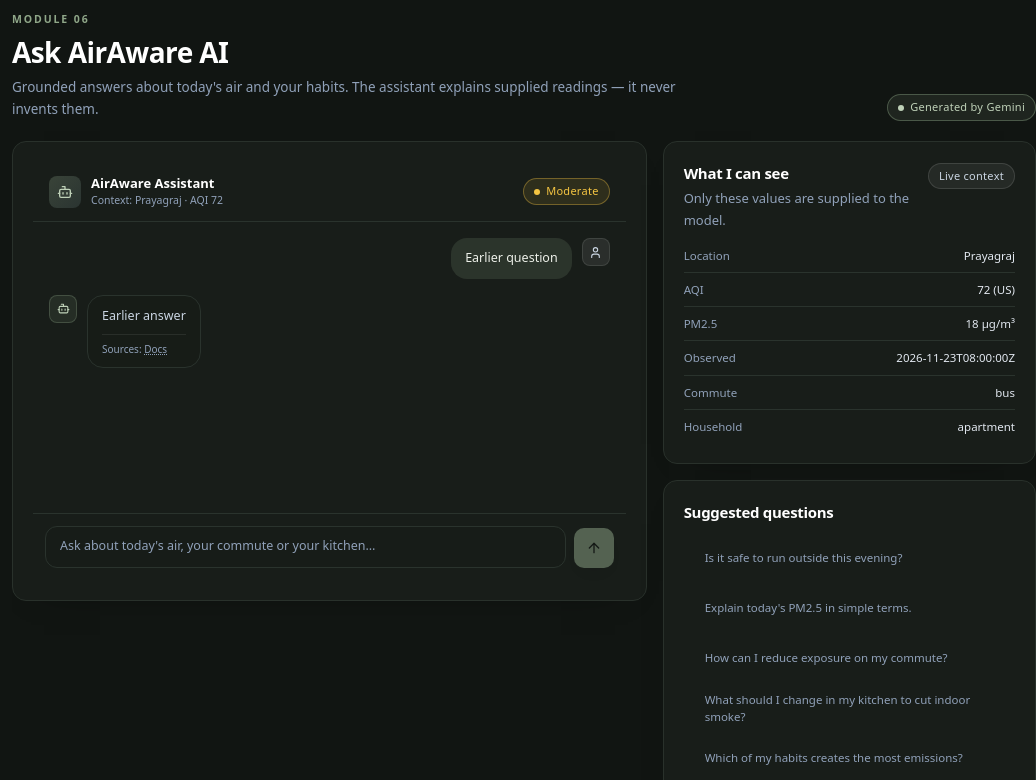
it: Assistant interactions › sends a typed message and displays a schema-validated reply with sources
The image size is (1036, 780).
Expected: the text "Earlier answer" is shown, [102,306,186,326]
Step 1. Type "Is my commute safe today?" into the text box named "Message AirAware" → (305, 547), box [45,526,566,568]
Then press Enter
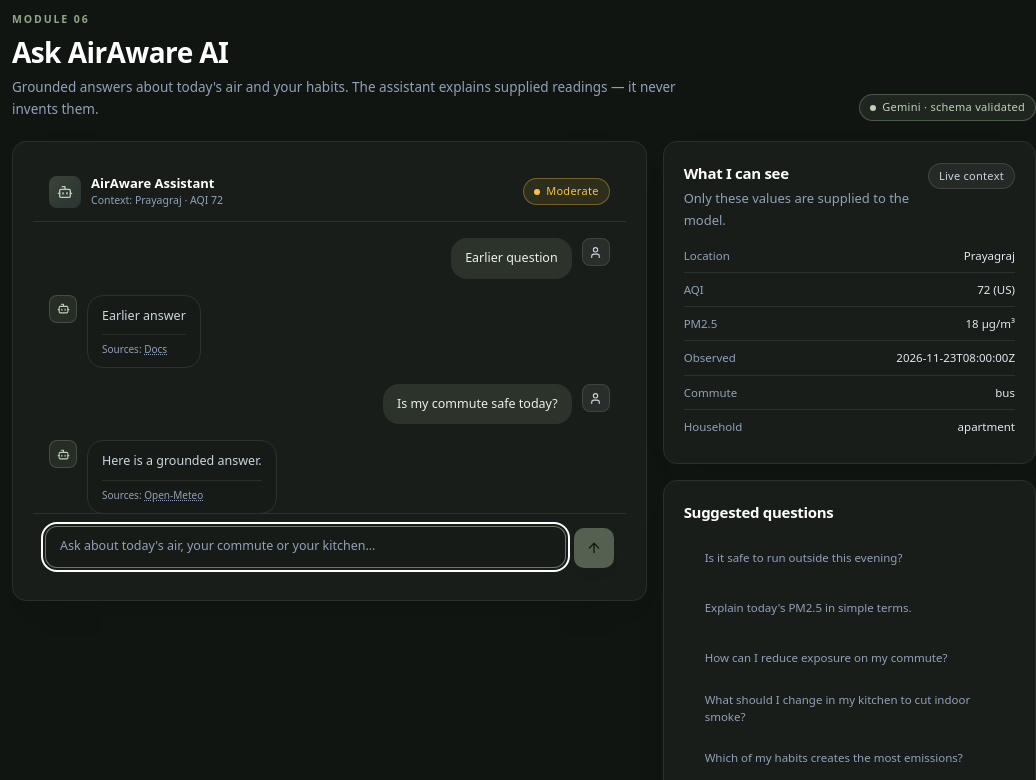
Expected: the text "Is my commute safe today?" is shown, [397,394,558,414]
Expected: the text "Here is a grounded answer." is shown, [102,451,262,472]
Expected: the text "Gemini · schema validated" is shown, [859,94,1035,121]
